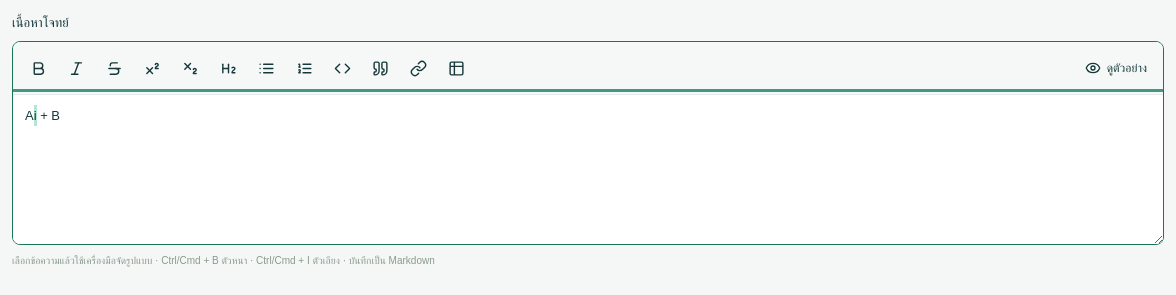
Scenario: Markdown editor › formats and toggles ตัวห้อย and renders its preview
Click the button named "ตัวห้อย". click: (190, 68)
box: [173,50,207,86]
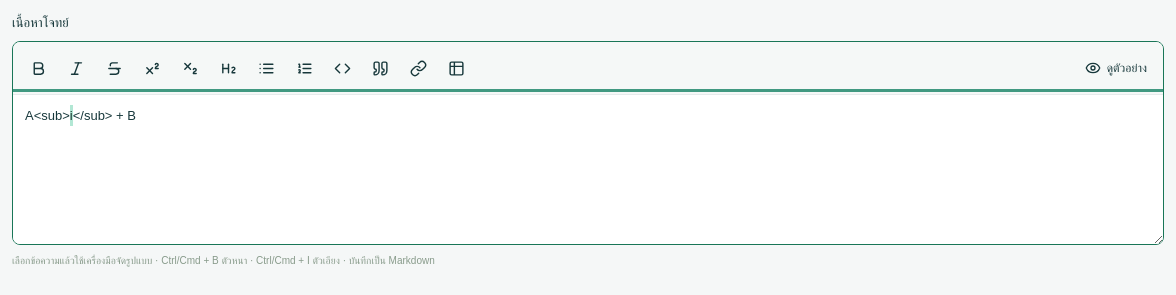
Click the button named "ตัวห้อย". click: (190, 68)
box: [173,50,207,86]
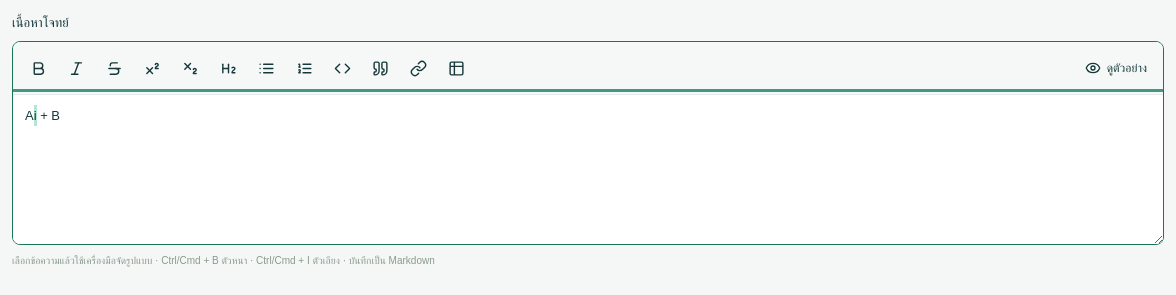
Click the button named "ตัวห้อย". click: (190, 68)
box: [173,50,207,86]
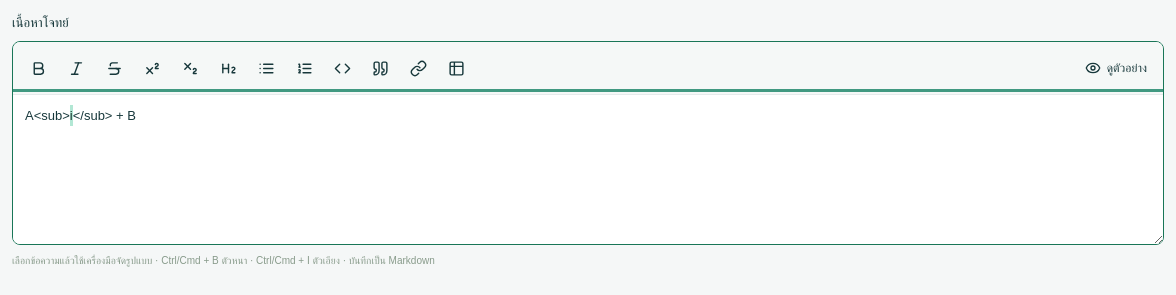
Click the button "ดูตัวอย่าง". click: (1116, 68)
box: [1077,50,1155,86]
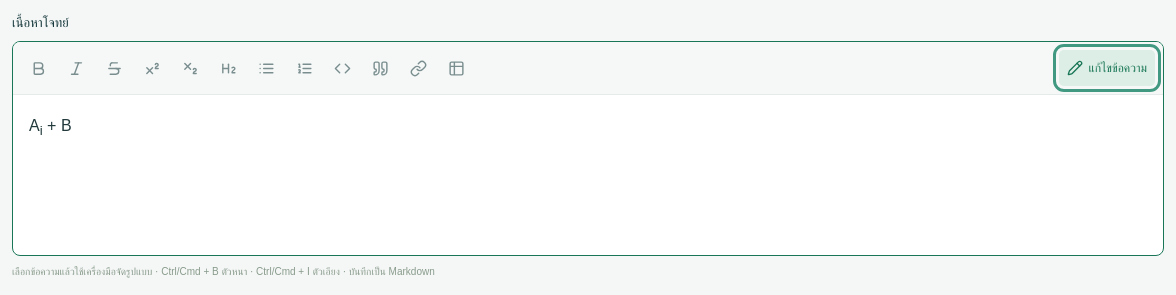
Now the text "i" is shown, box [40,124,43,139]
